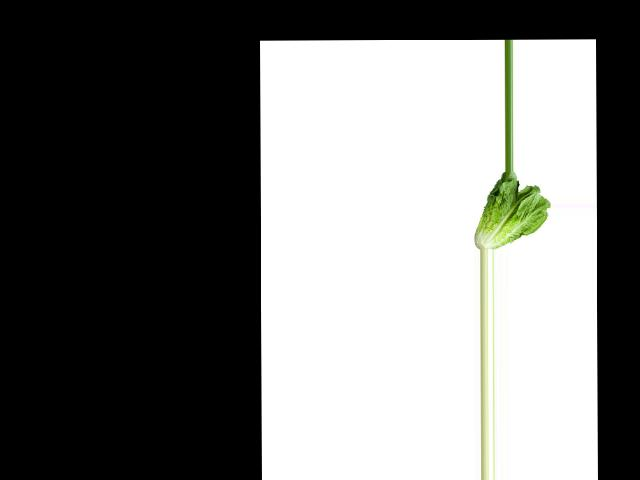lettuce: (473, 173, 551, 248)
